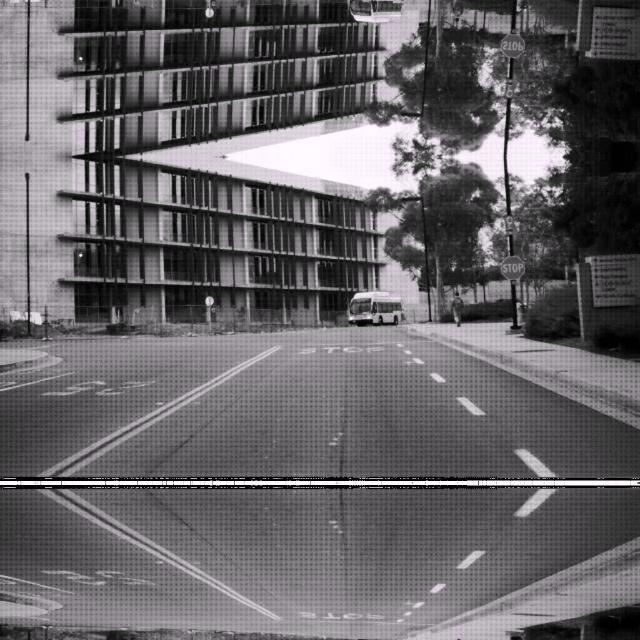stop: (500, 254, 524, 278), (500, 34, 524, 58)
